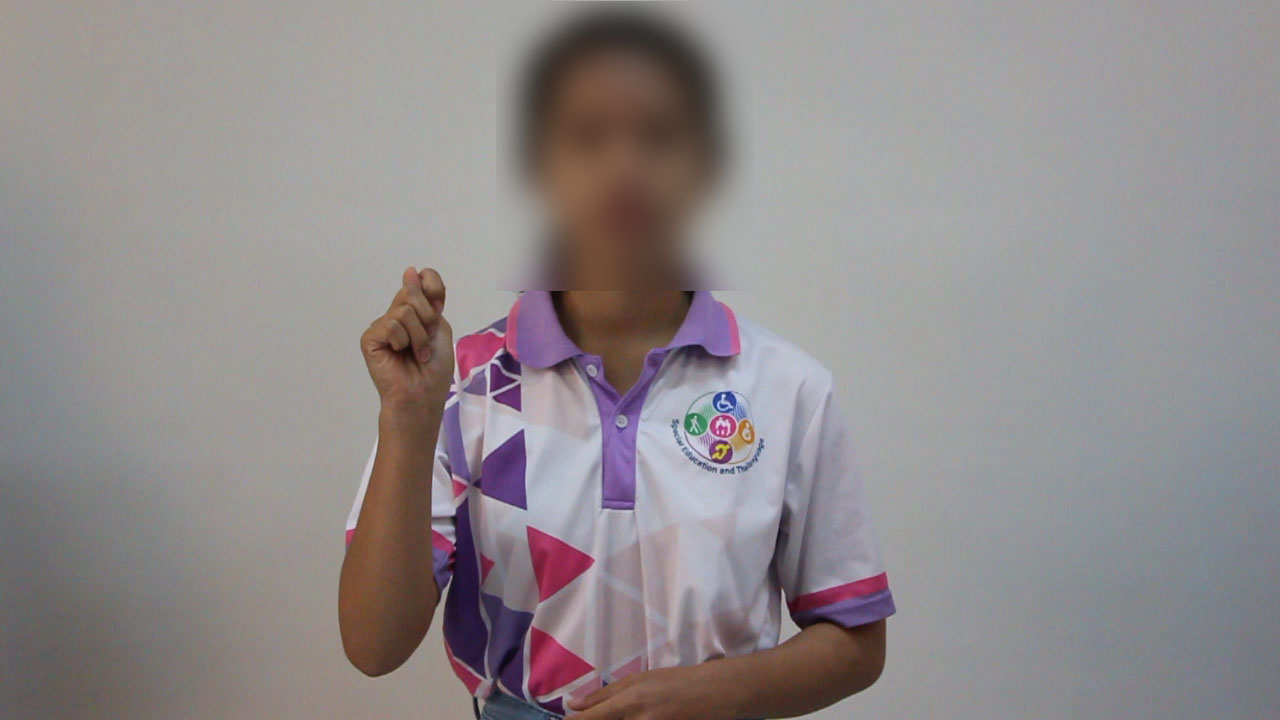tor: (338, 250, 486, 443)
